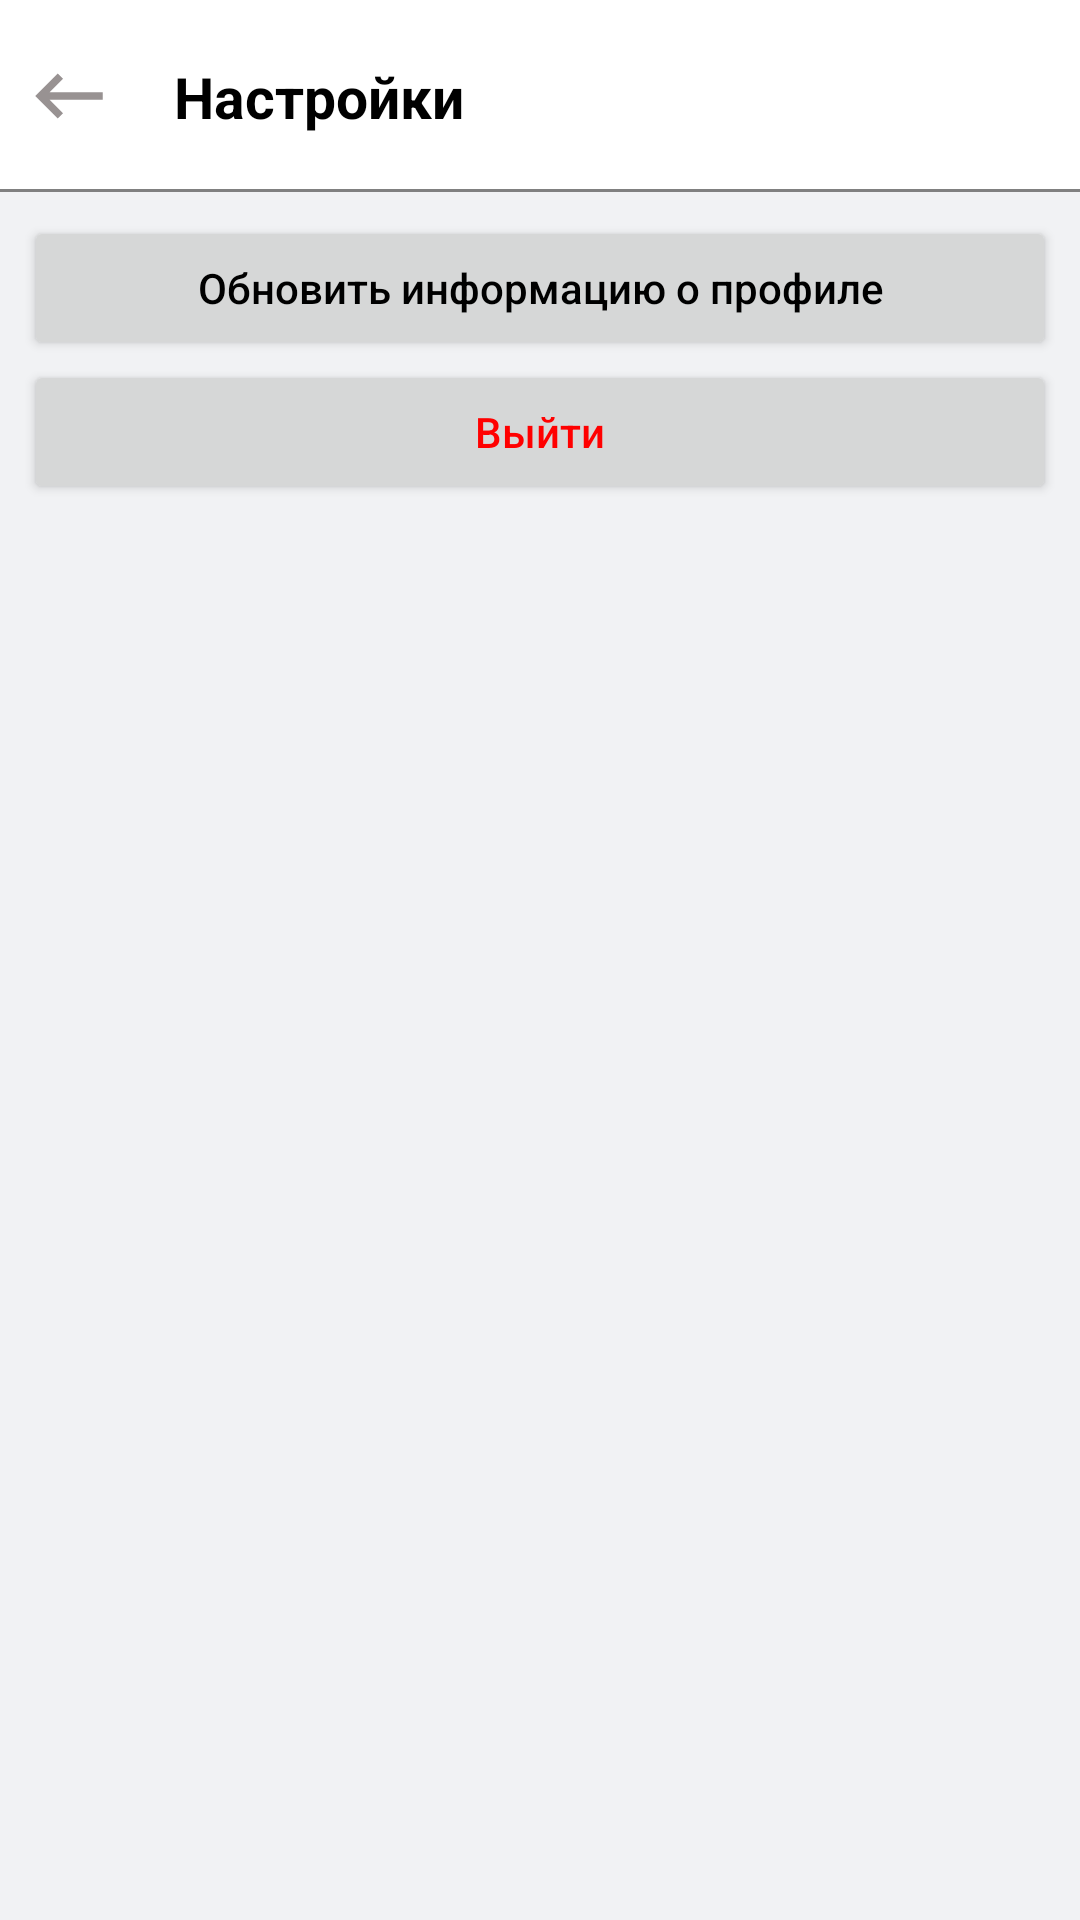

Icons on this 1080 x 1920 Android screen, each with its box as [x1=x1, y1=y1, x2=x2, y2=y2]:
keyboard backspace: [x1=35, y1=74, x2=103, y2=118]
